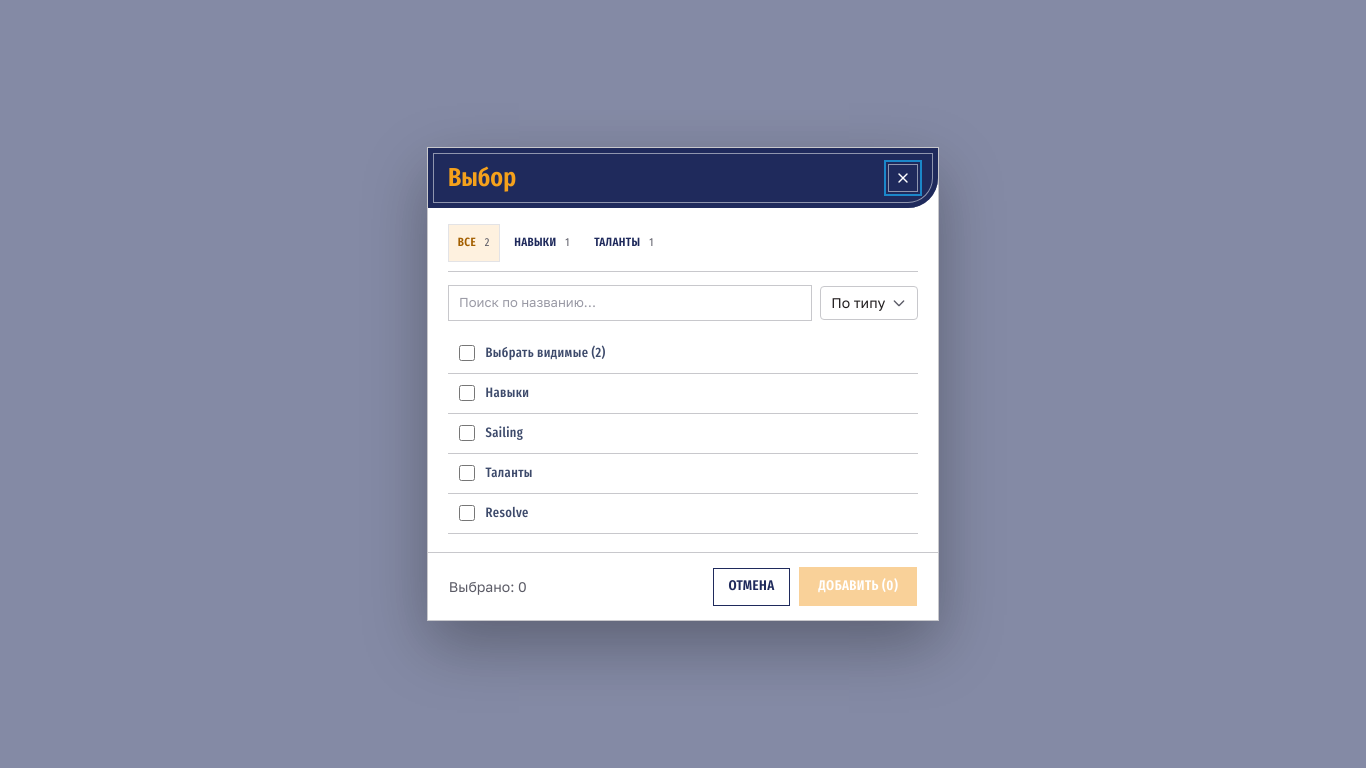
Test: content picker › preserves selection and dialog when saving fails
Click the checkbox labelled "Sailing".
click(467, 433)  # box [459,424,475,442]
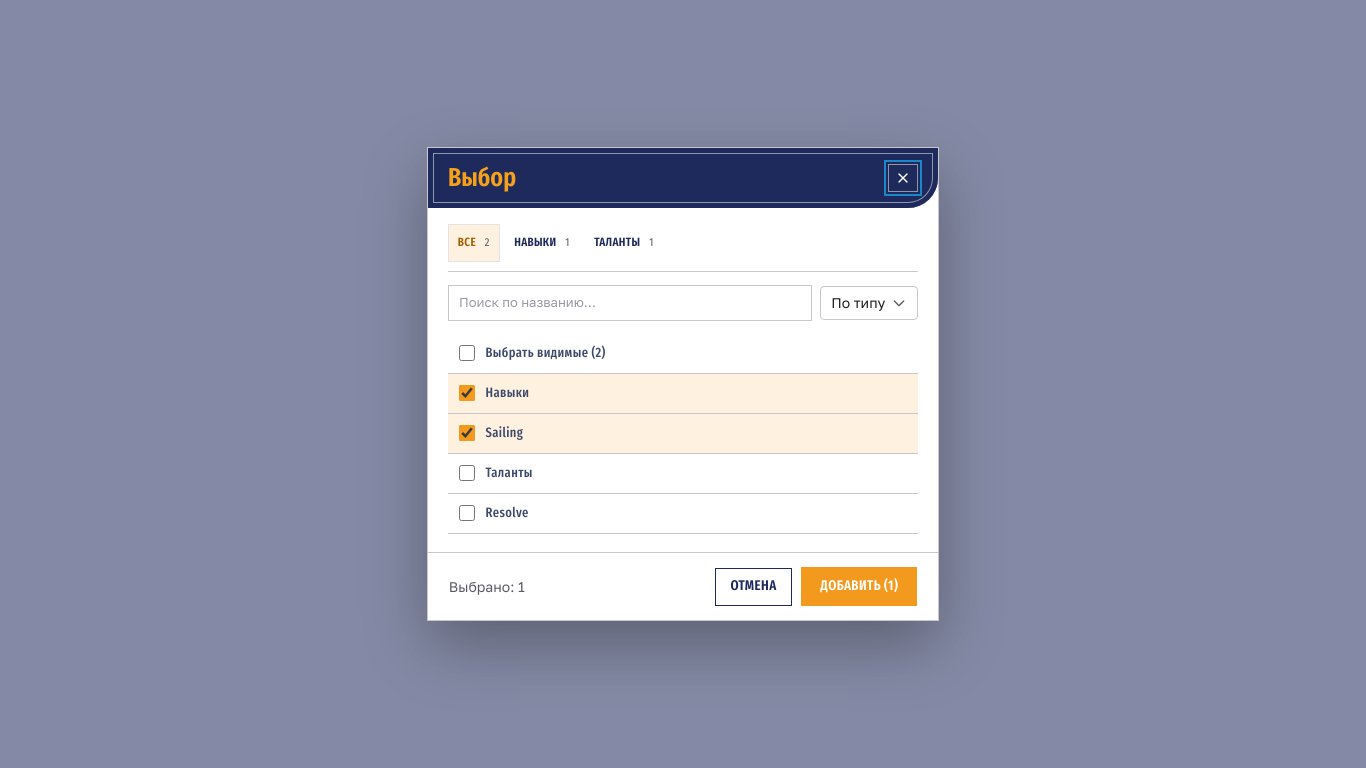
Click the button "Добавить (1)".
click(859, 587)  # box [801,567,917,606]
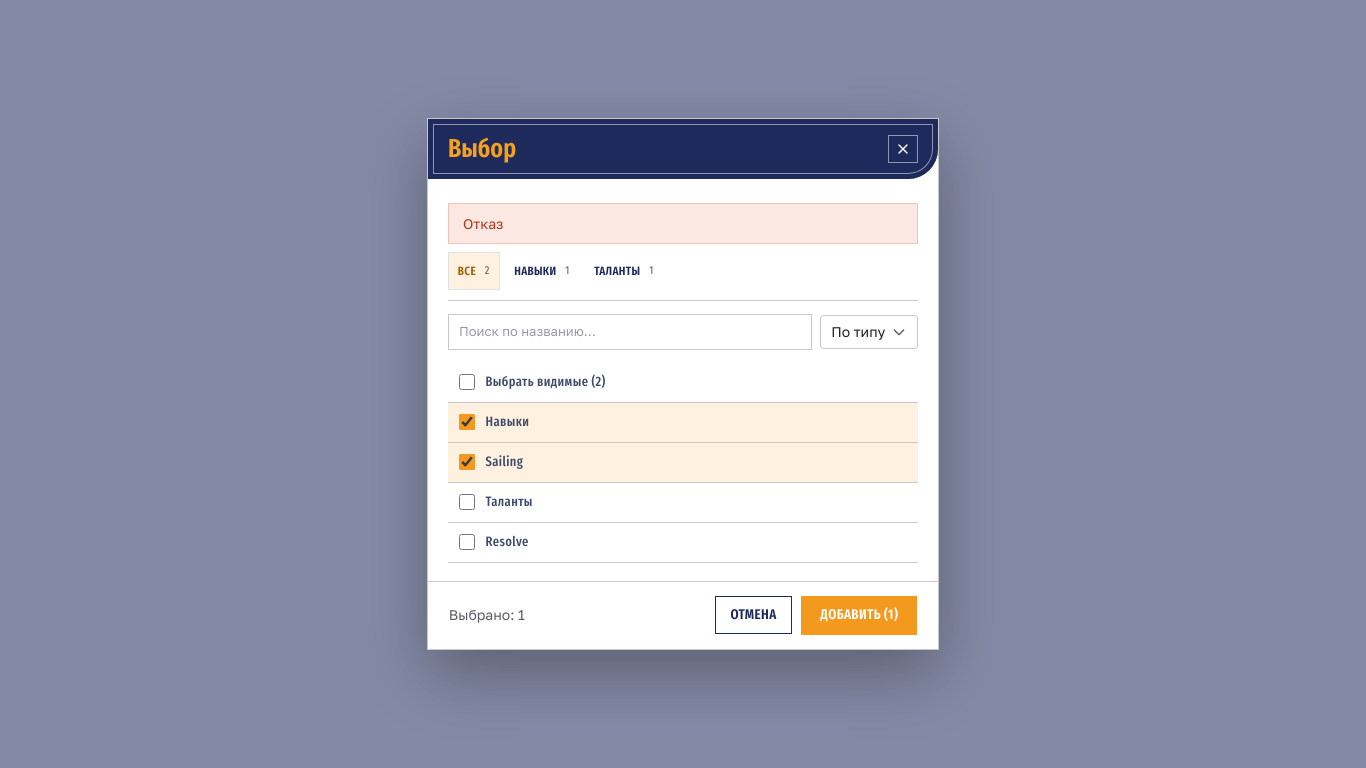
Check: the checkbox labelled "Sailing" is checked, box [459,453,475,471]
Check: the message reads "Отказ", box [463,215,503,232]
